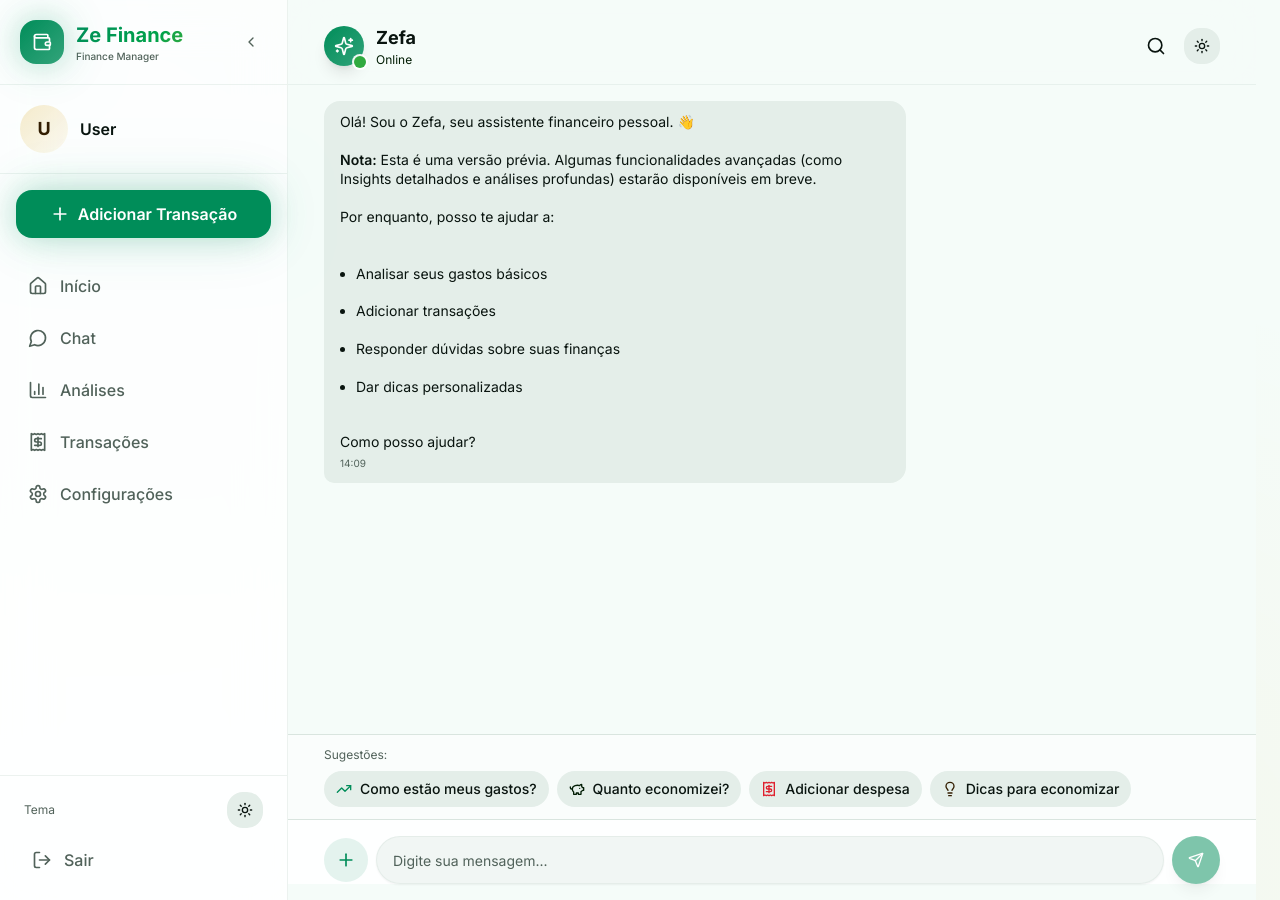
Test: Chat Integration Tests › should handle timeout errors
Type "Teste timeout" into the field with placeholder "Digite sua mensagem...". click: coordinates (770, 860)
box: [376,836,1164,884]
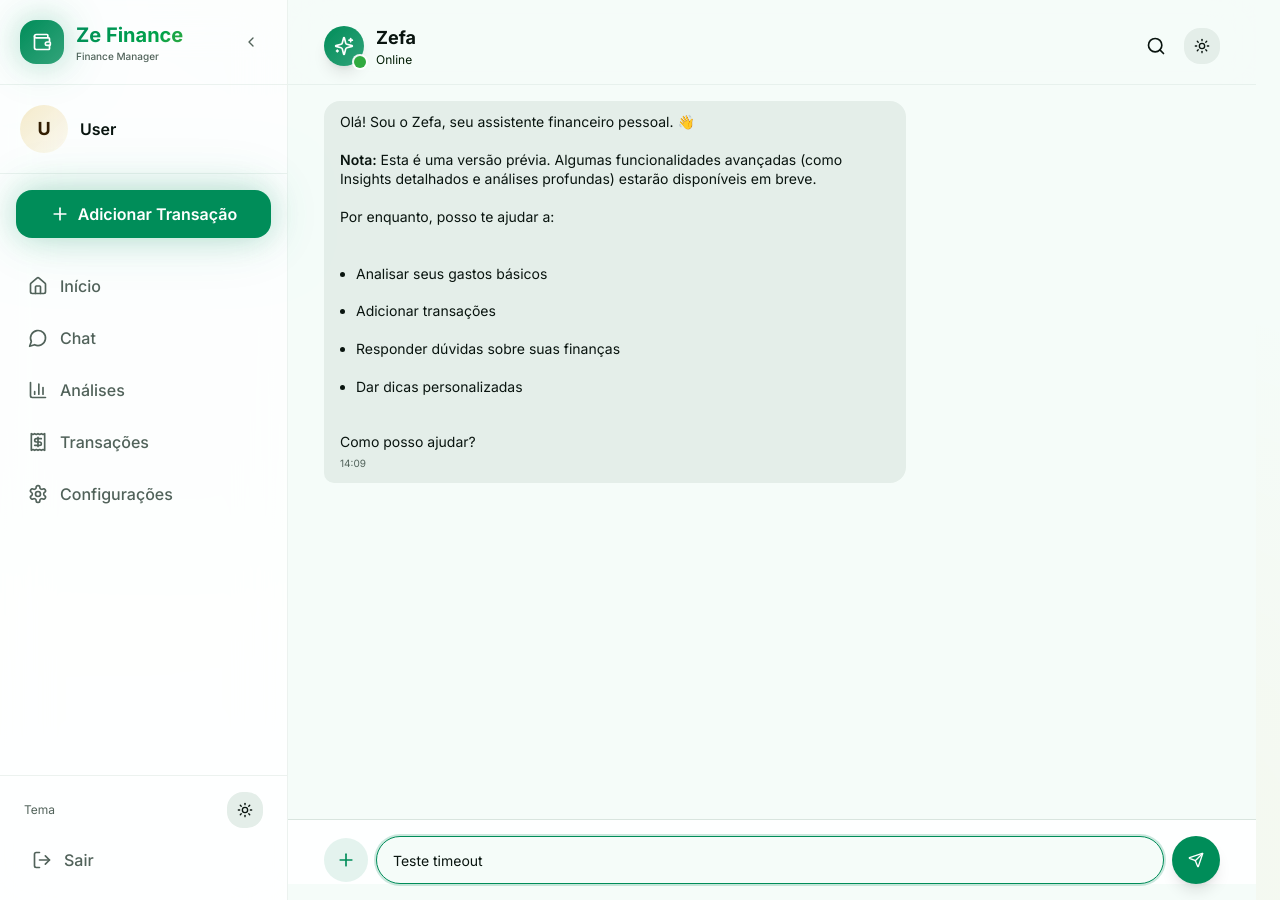
Click the button named "enviar". click: coordinates (1196, 860)
box: [1172,836,1220,884]
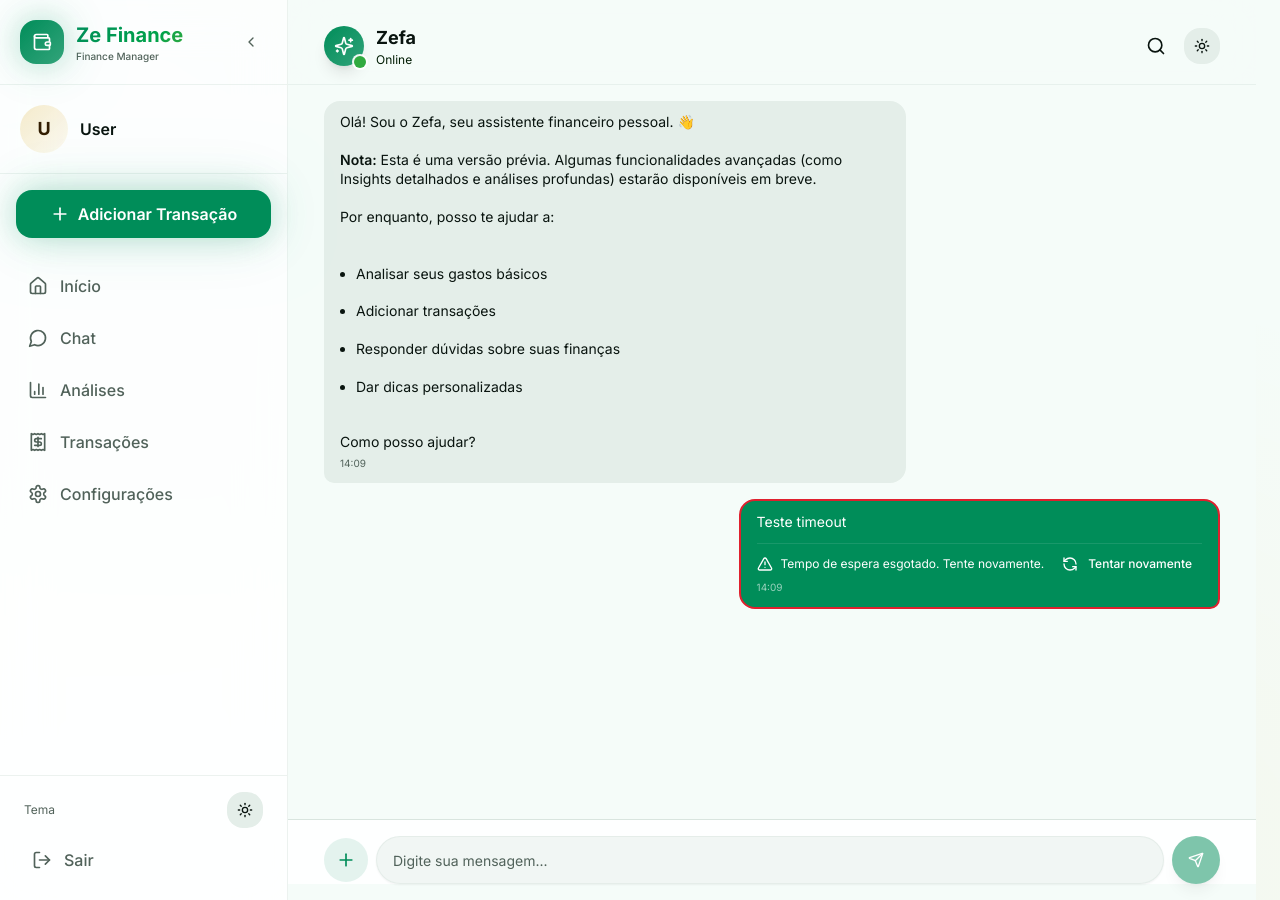
Now the text "Tempo de espera esgotado. Tente novamente." is shown, box [781,556,1044,572]
